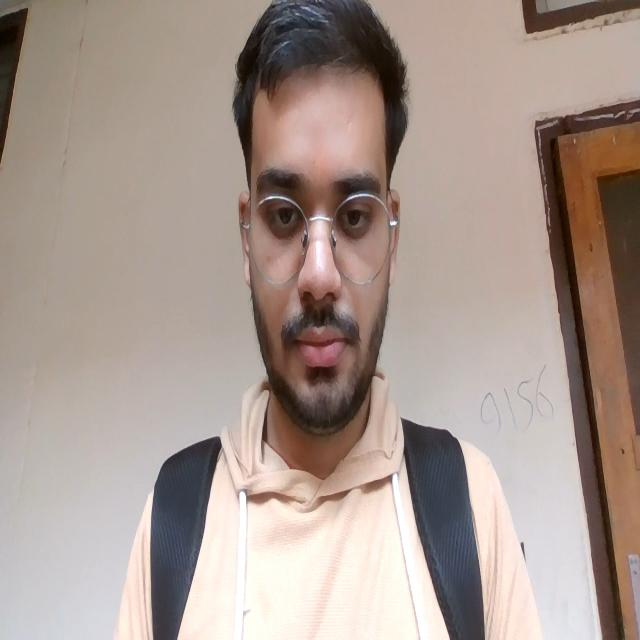awake: (254, 163, 378, 372)
